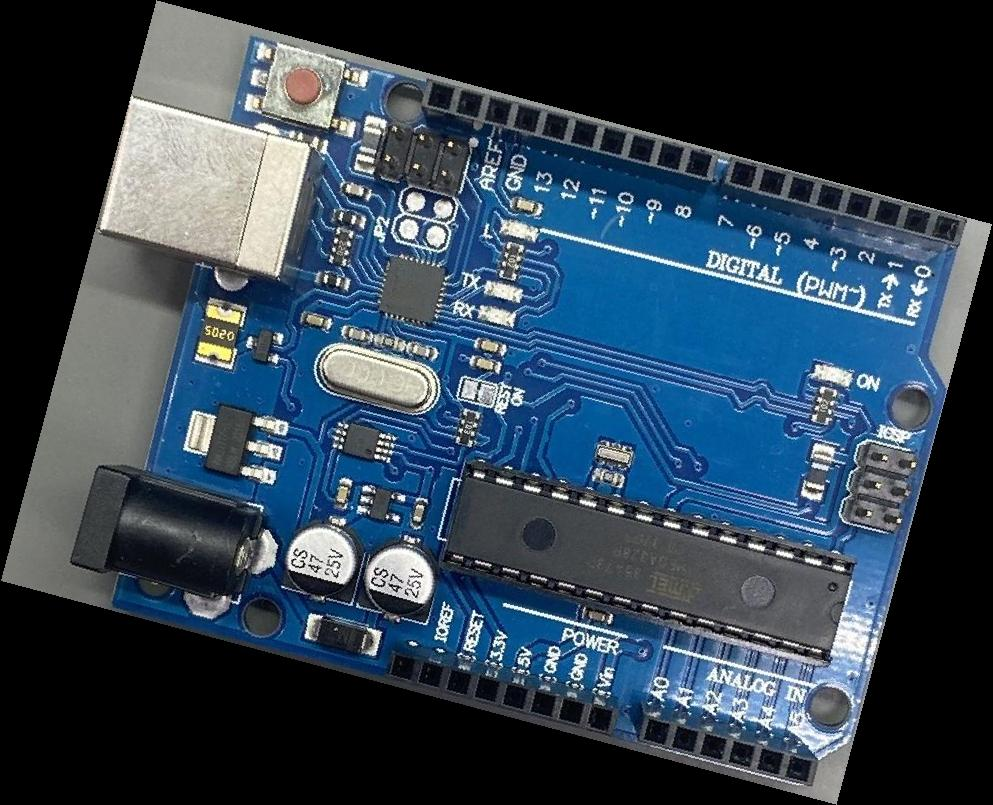ATmega328 chip: (441, 457, 852, 667)
Arduino board: (71, 37, 966, 791)
USB: (95, 95, 329, 290)
capacitor: (283, 515, 368, 605), (359, 536, 439, 623)
pins: (419, 79, 718, 197), (719, 156, 968, 256), (386, 639, 618, 737), (628, 695, 818, 788)
resistor: (740, 384, 909, 431), (426, 239, 597, 284), (385, 405, 553, 450), (258, 226, 427, 269)
spur: (469, 433, 627, 444), (480, 282, 638, 293)
